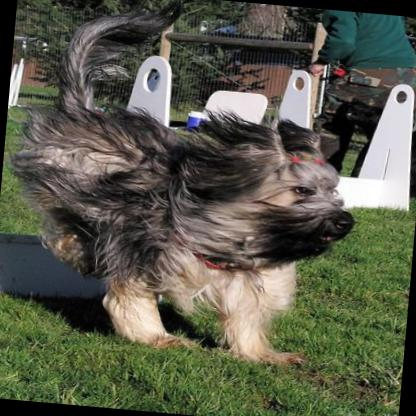briard: (0, 0, 369, 374)
